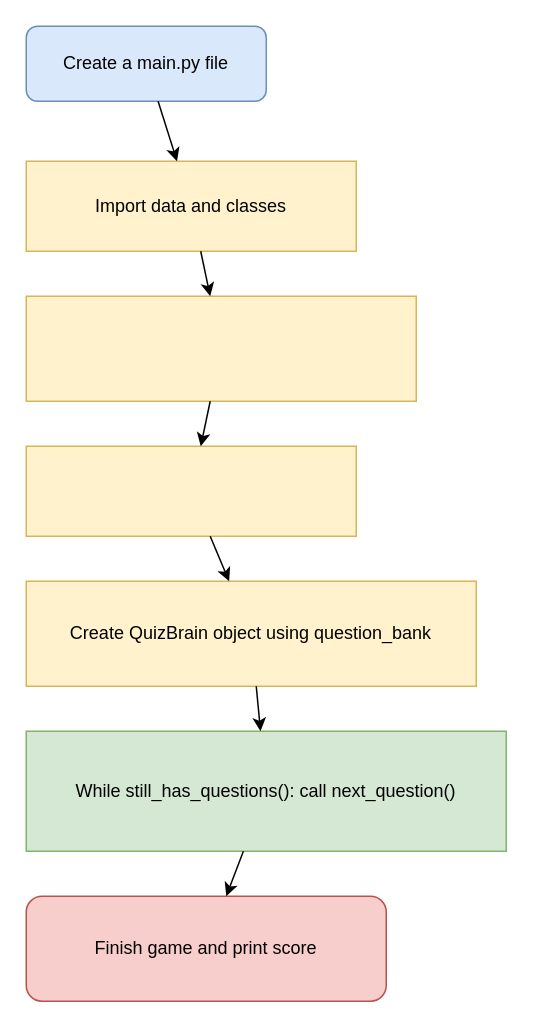
Some shapes in this 533 by 1028 pixel diagram are drawn without their labels. Each missing label, with the centre of its shape:
"Build question_bank (list of Question objects)" goes at point (220, 348).
"Shuffle the question bank" goes at point (190, 490).
